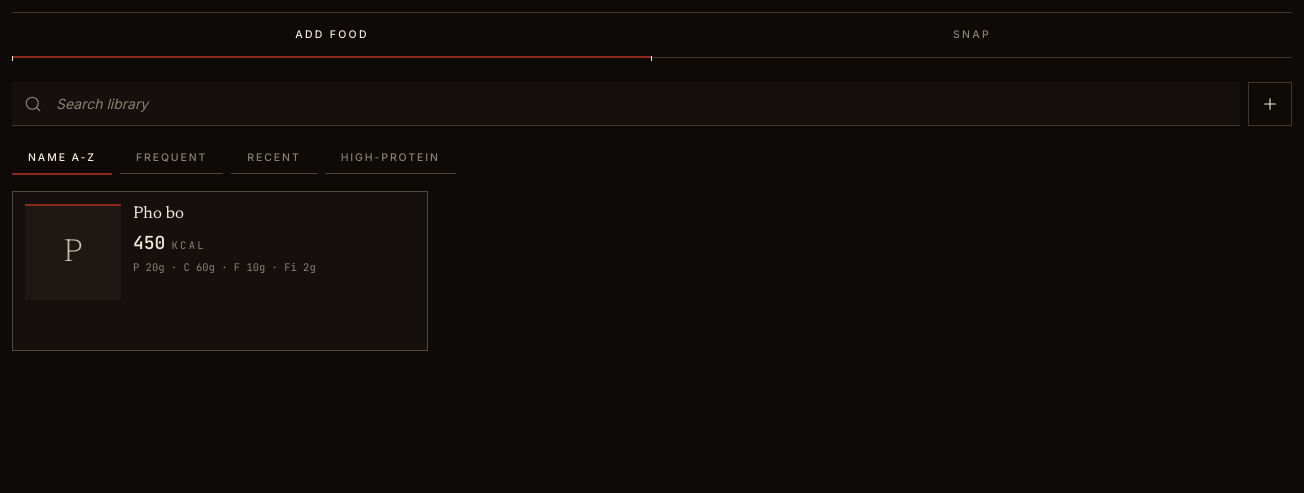
Test: Add Food tab — back navigation › typeDraft survives the library → parse → back → parse round trip
Click + → parse view, draft preserved.
Click the button with test id "library-add-new-icon-button": [1270, 104] box [1248, 82, 1292, 126]
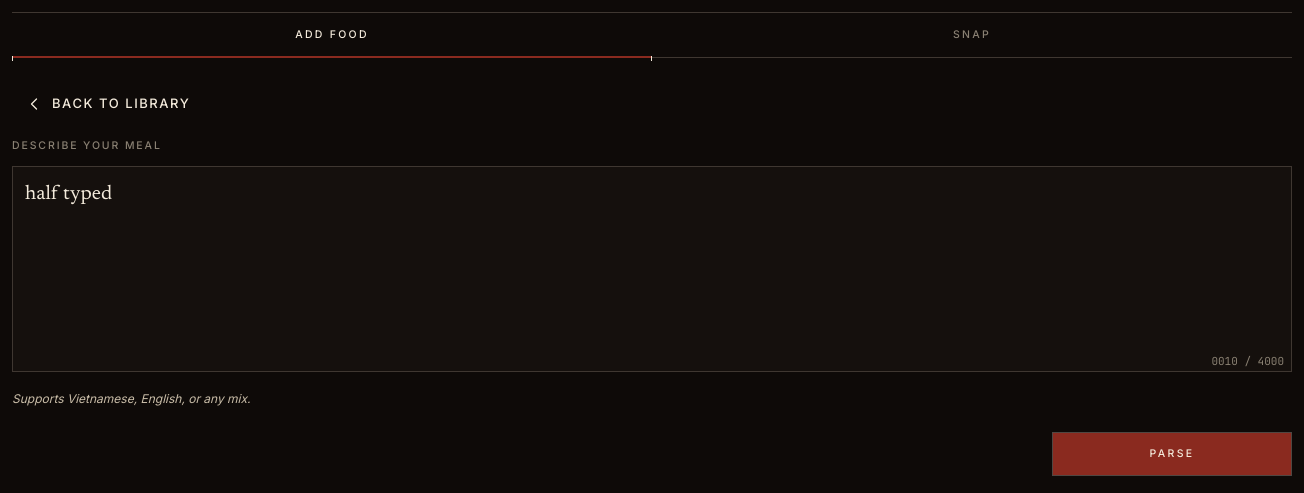
Expected: the text box with test id "type-tab-textarea" holds "half typed", [12, 166, 1292, 372]
Back to library.
Click the button with test id "ai-parse-form-back": [107, 104] box [12, 82, 202, 126]
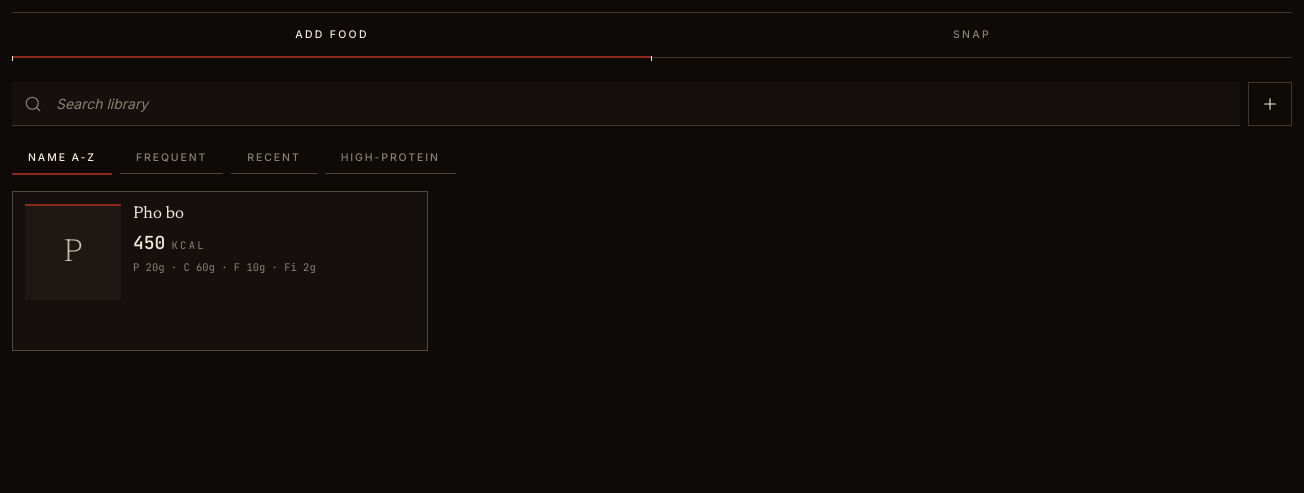
Click + again → parse view, draft still preserved.
Click the button with test id "library-add-new-icon-button": [1270, 104] box [1248, 82, 1292, 126]
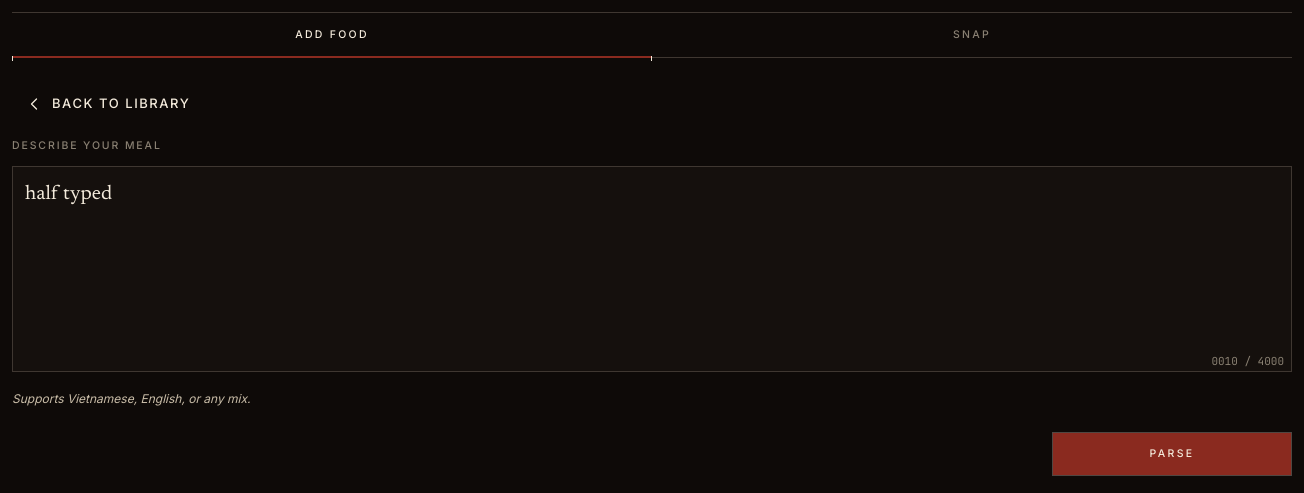
Expected: the text box with test id "type-tab-textarea" holds "half typed", [12, 166, 1292, 372]
